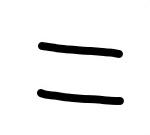eqv: (38, 42, 124, 105)
